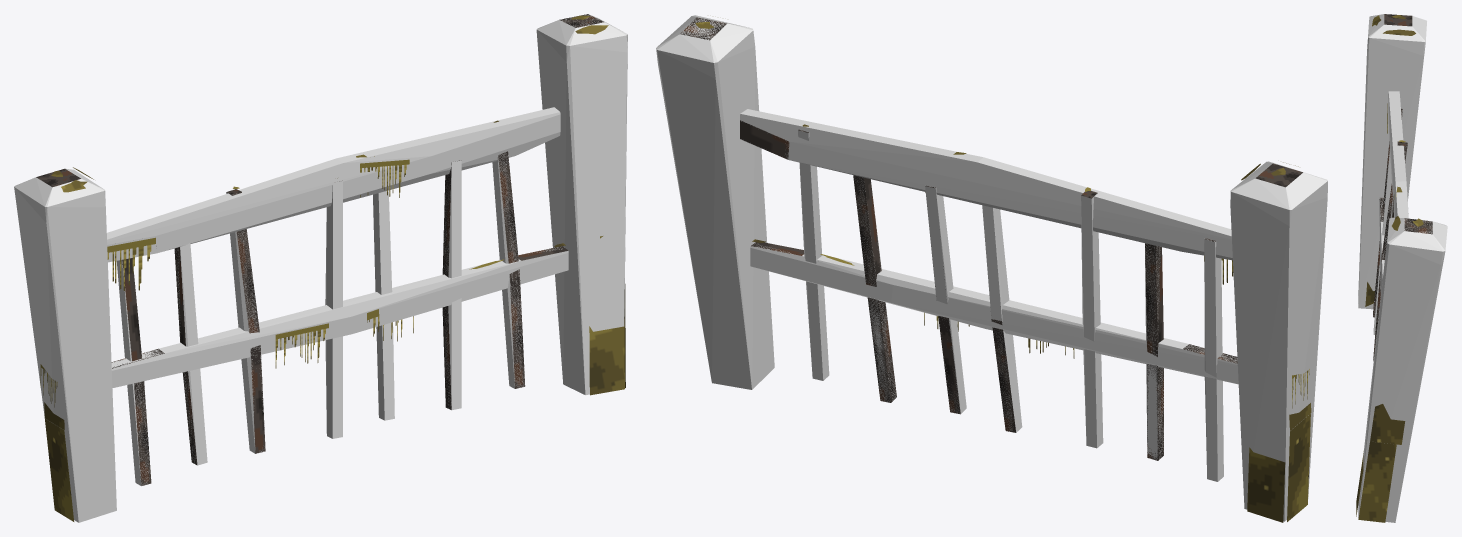
File: SM_SW25_GraveFenceTilted_Parts.fbx
3 views of the same model, side by side, from view 1: azimuth 30°, elevation 25°; view 2: azimuth 150°, elevation 25°; view 3: azimuth 270°, elevation 25° (orthographic). The views are drawn at different scales.
Visible parts, largest first — view 1: SW25a_Post_2_COL, SW25a_Post_1_COL, SW25a_Rail_2_COL, SW25a_Rail_1_COL, SW25a_Picket_4_COL, SW25a_Picket_5_COL, SW25a_Grass, SW25a_Picket_6_COL, SW25a_Post_2, SW25a_Post_1, SW25a_Picket_2_COL, SW25a_Picket_7 (+7 smaller); view 2: SW25a_Post_2_COL, SW25a_Post_1_COL, SW25a_Rail_2_COL, SW25a_Rail_1_COL, SW25a_Post_1, SW25a_Picket_1_COL, SW25a_Picket_3_COL, SW25a_Picket_6, SW25a_Picket_7_COL, SW25a_Picket_4_COL, SW25a_Picket_5_COL, SW25a_Picket_2 (+5 smaller); view 3: SW25a_Post_2_COL, SW25a_Post_1_COL, SW25a_Post_2, SW25a_Rail_2_COL, SW25a_Post_1, SW25a_Picket_3, SW25a_Picket_2_COL, SW25a_Picket_1, SW25a_Rail_1_COL, SW25a_Picket_3_COL.
Boxes of the visible parts, bbox=[...] form: SW25a_Post_2_COL: bbox=[536, 14, 627, 395]; SW25a_Post_1_COL: bbox=[14, 168, 116, 522]; SW25a_Rail_2_COL: bbox=[106, 107, 560, 262]; SW25a_Rail_1_COL: bbox=[111, 247, 568, 388]; SW25a_Picket_4_COL: bbox=[325, 181, 342, 438]; SW25a_Picket_5_COL: bbox=[373, 190, 394, 420]; SW25a_Grass: bbox=[40, 159, 602, 407]; SW25a_Picket_6_COL: bbox=[442, 160, 461, 409]; SW25a_Post_2: bbox=[559, 14, 625, 395]; SW25a_Post_1: bbox=[36, 167, 93, 521]; SW25a_Picket_2_COL: bbox=[174, 243, 207, 465]; SW25a_Picket_7: bbox=[498, 151, 525, 388]; SW25a_Post_2_COL: bbox=[656, 15, 774, 389]; SW25a_Post_1_COL: bbox=[1230, 161, 1327, 521]; SW25a_Rail_2_COL: bbox=[740, 109, 1232, 260]; SW25a_Rail_1_COL: bbox=[750, 243, 1238, 384]; SW25a_Post_1: bbox=[1241, 162, 1311, 522]; SW25a_Picket_1_COL: bbox=[1204, 238, 1223, 481]; SW25a_Picket_3_COL: bbox=[1081, 193, 1103, 448]; SW25a_Picket_6: bbox=[853, 175, 896, 402]; SW25a_Picket_7_COL: bbox=[798, 130, 829, 380]; SW25a_Picket_4_COL: bbox=[982, 205, 1022, 432]; SW25a_Picket_5_COL: bbox=[925, 186, 966, 413]; SW25a_Picket_2: bbox=[1145, 243, 1163, 460]; SW25a_Post_2_COL: bbox=[1358, 217, 1447, 522]; SW25a_Post_1_COL: bbox=[1358, 14, 1426, 309]; SW25a_Post_2: bbox=[1356, 216, 1432, 522]; SW25a_Rail_2_COL: bbox=[1388, 91, 1408, 218]; SW25a_Post_1: bbox=[1365, 14, 1415, 306]; SW25a_Picket_3: bbox=[1373, 140, 1407, 360]; SW25a_Picket_2_COL: bbox=[1373, 150, 1391, 334]; SW25a_Picket_1: bbox=[1373, 108, 1402, 317]; SW25a_Rail_1_COL: bbox=[1379, 197, 1384, 296]; SW25a_Picket_3_COL: bbox=[1373, 145, 1407, 358].
Size of the model in its own units: 2.12 by 1.2 by 0.3331.
